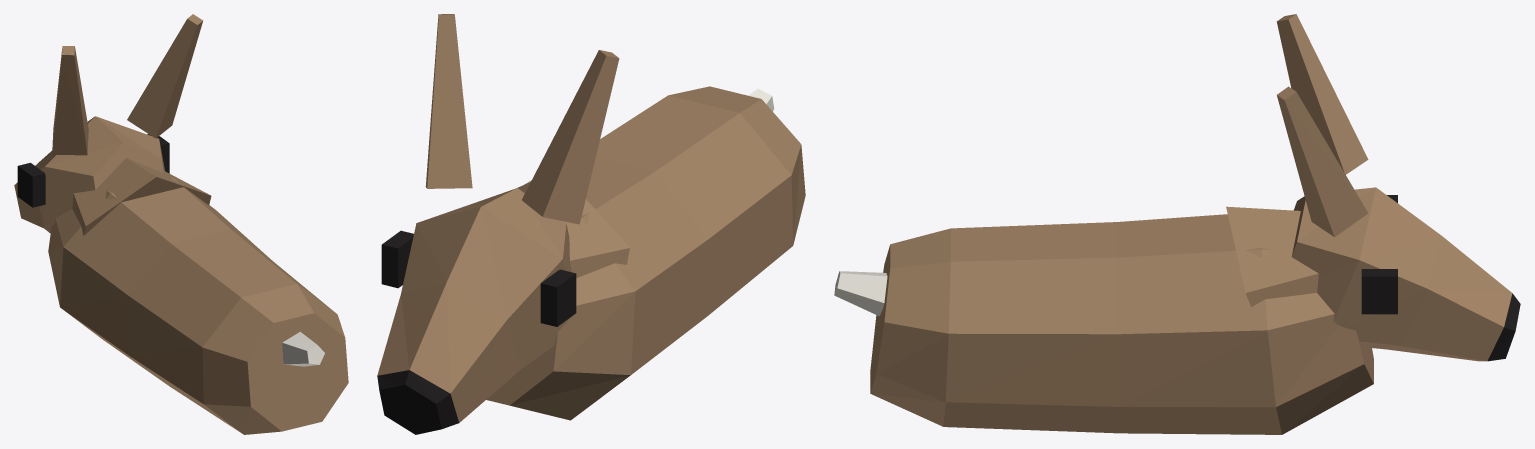
File: animal_hare.obj
The picture shows the model from 3 angles, left to right: view 1: azimuth 30°, elevation 25°; view 2: azimuth 150°, elevation 25°; view 3: azimuth 270°, elevation 25°; orthographic projection. The views are drawn at different scales.
Visible parts, largest first — view 1: animal_hare; view 2: animal_hare; view 3: animal_hare.
Part boxes in pixels (bbox=[...]): animal_hare: bbox=[14, 14, 348, 434]; animal_hare: bbox=[377, 14, 805, 434]; animal_hare: bbox=[834, 14, 1520, 434].
Size of the model in its own units: 0.1892 by 0.3527 by 0.604.
